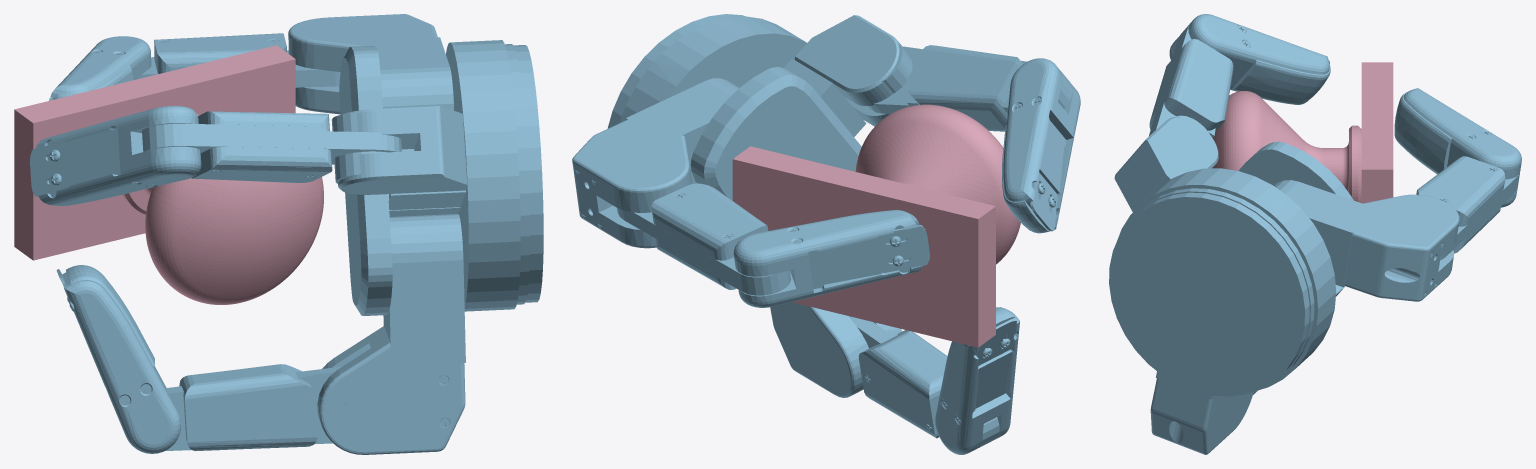
3 renders of one model, left to right at view 1: azimuth 30°, elevation 25°; view 2: azimuth 150°, elevation 25°; view 3: azimuth 270°, elevation 25°, orthographic. The views are drawn at different scales.
Visible parts, largest first — view 1: world; view 2: world; view 3: world.
Part boxes in pixels (box(x1,y1,x2,y2)): world: box(14, 14, 543, 454); world: box(572, 14, 1080, 454); world: box(1109, 14, 1521, 454).
Size of the model in its own units: 0.1837 by 0.1436 by 0.1626.
